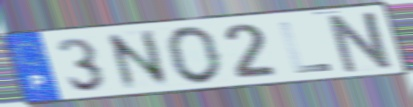2: (222, 22, 281, 81)
3: (56, 36, 109, 93)
L: (277, 19, 336, 75)
N: (325, 8, 398, 75), (102, 28, 175, 93)
O: (165, 25, 226, 86)
